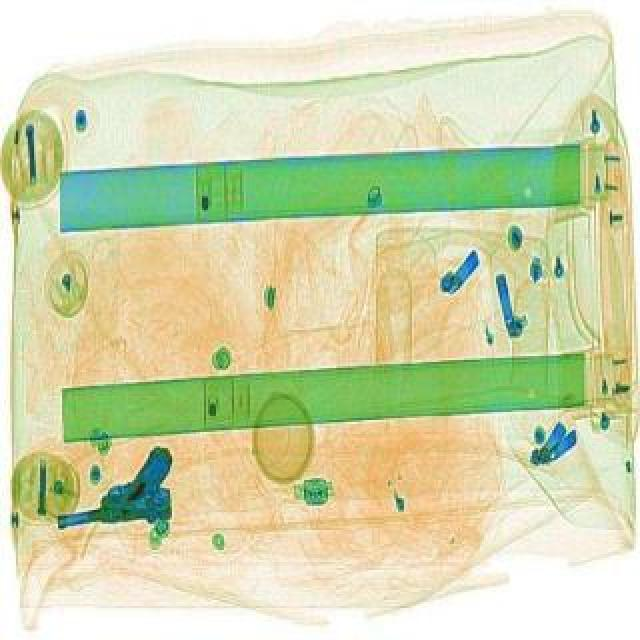gun: (44, 440, 196, 550)
